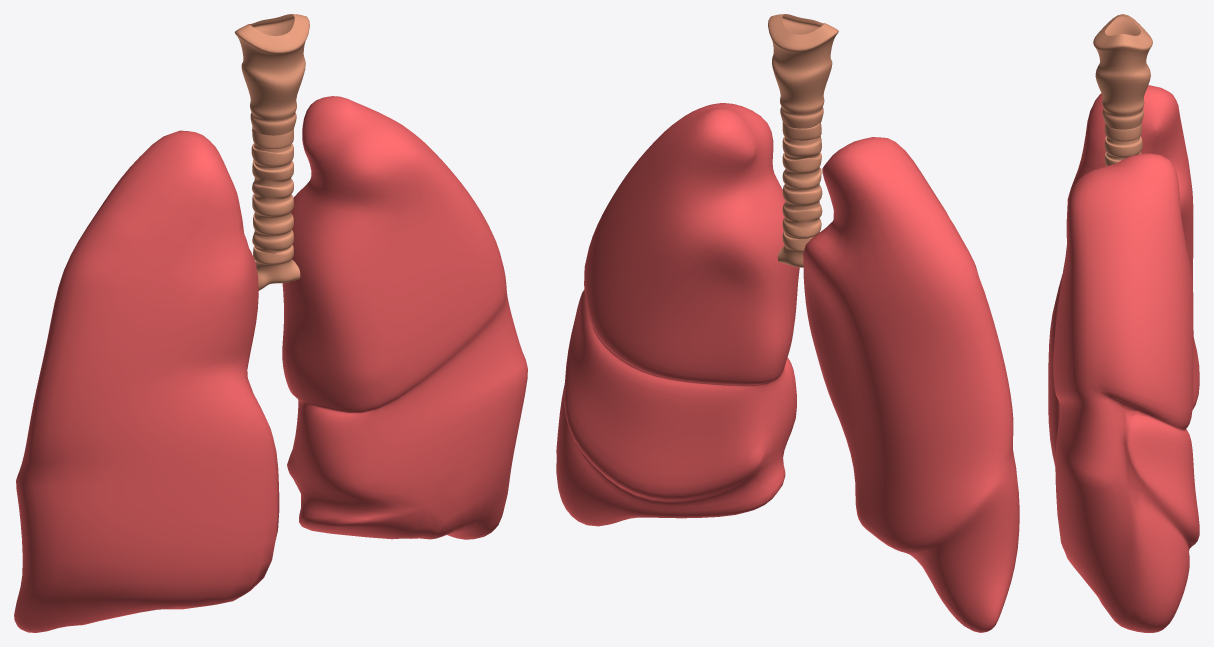
File: lungs.glb
The picture shows the model from 3 angles, left to right: view 1: azimuth 30°, elevation 25°; view 2: azimuth 150°, elevation 25°; view 3: azimuth 270°, elevation 25°; orthographic projection. The views are drawn at different scales.
Visible parts, largest first — view 1: Circle.002, Circle.001; view 2: Circle.002, Circle.001; view 3: Circle.002, Circle.001.
Boxes of the visible parts, left/top/right/bottom form: Circle.002: left=14, top=96, right=527, bottom=632; Circle.001: left=234, top=14, right=309, bottom=290; Circle.002: left=556, top=103, right=1019, bottom=632; Circle.001: left=768, top=14, right=838, bottom=267; Circle.002: left=1048, top=85, right=1199, bottom=632; Circle.001: left=1093, top=14, right=1152, bottom=165.
Size of the model in its own units: 3.67 by 4.23 by 1.12.
